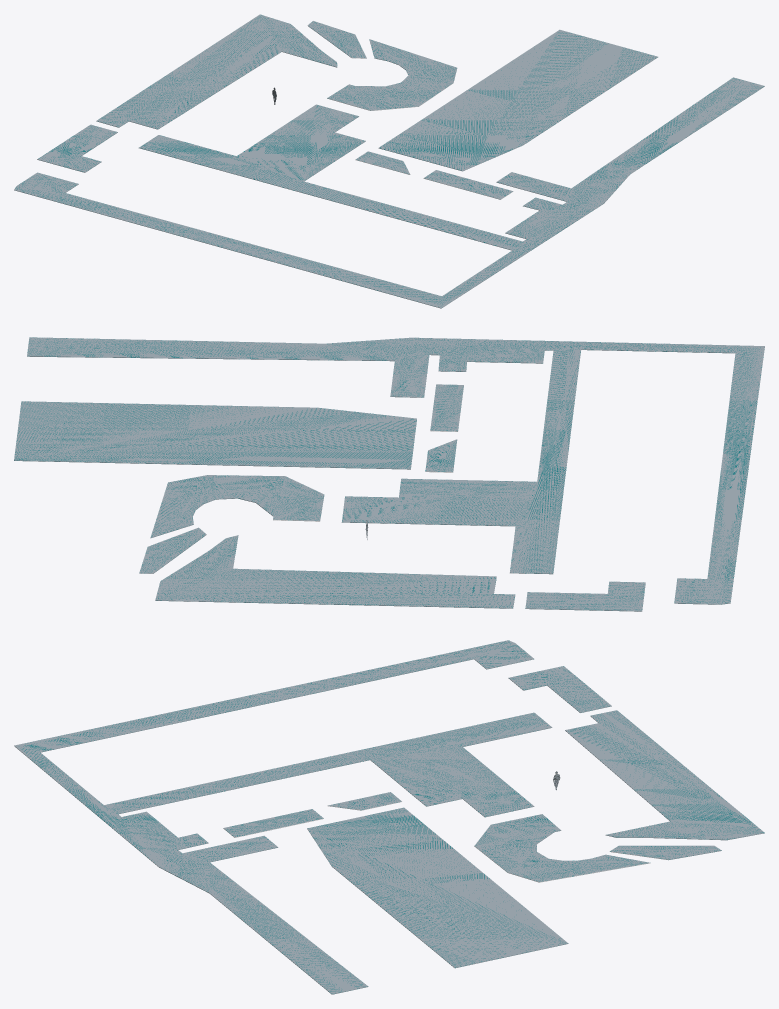
File: Grass(base).obj
3 renders of one model, top to bottom at view 1: azimuth 30°, elevation 25°; view 2: azimuth 150°, elevation 25°; view 3: azimuth 270°, elevation 25°, orthographic. The views are drawn at different scales.
Parts seen in each view (by area): view 1: Mesh5 Component_7_1 Group1 Model, Mesh4 Component_7_1 Group1 Model, Mesh2 Component_7_1 Group1 Model, Mesh3 Component_7_1 Group1 Model, Mesh8 Component_7_1 Group1 Model, Mesh7 Component_7_1 Group1 Model, Mesh6 Component_7_1 Group1 Model, Mesh1 Component_7_1 Group1 Model; view 2: Mesh5 Component_7_1 Group1 Model, Mesh4 Component_7_1 Group1 Model, Mesh2 Component_7_1 Group1 Model, Mesh3 Component_7_1 Group1 Model, Mesh8 Component_7_1 Group1 Model, Mesh7 Component_7_1 Group1 Model, Mesh6 Component_7_1 Group1 Model, Mesh1 Component_7_1 Group1 Model; view 3: Mesh5 Component_7_1 Group1 Model, Mesh4 Component_7_1 Group1 Model, Mesh2 Component_7_1 Group1 Model, Mesh3 Component_7_1 Group1 Model, Mesh8 Component_7_1 Group1 Model, Mesh6 Component_7_1 Group1 Model, Mesh7 Component_7_1 Group1 Model, Mesh1 Component_7_1 Group1 Model.
Part boxes in pixels (bbox=[...]): Mesh5 Component_7_1 Group1 Model: bbox=[14, 77, 764, 308]; Mesh4 Component_7_1 Group1 Model: bbox=[378, 29, 657, 171]; Mesh2 Component_7_1 Group1 Model: bbox=[96, 14, 337, 129]; Mesh3 Component_7_1 Group1 Model: bbox=[327, 39, 457, 110]; Mesh8 Component_7_1 Group1 Model: bbox=[37, 124, 117, 172]; Mesh7 Component_7_1 Group1 Model: bbox=[423, 170, 513, 199]; Mesh6 Component_7_1 Group1 Model: bbox=[307, 21, 366, 58]; Mesh1 Component_7_1 Group1 Model: bbox=[355, 151, 410, 174]; Mesh5 Component_7_1 Group1 Model: bbox=[27, 337, 764, 604]; Mesh4 Component_7_1 Group1 Model: bbox=[14, 401, 416, 469]; Mesh2 Component_7_1 Group1 Model: bbox=[155, 535, 515, 608]; Mesh3 Component_7_1 Group1 Model: bbox=[150, 475, 324, 538]; Mesh8 Component_7_1 Group1 Model: bbox=[525, 581, 645, 611]; Mesh7 Component_7_1 Group1 Model: bbox=[430, 384, 463, 431]; Mesh6 Component_7_1 Group1 Model: bbox=[139, 527, 206, 573]; Mesh1 Component_7_1 Group1 Model: bbox=[425, 439, 457, 472]; Mesh5 Component_7_1 Group1 Model: bbox=[14, 640, 552, 994]; Mesh4 Component_7_1 Group1 Model: bbox=[307, 807, 568, 968]; Mesh2 Component_7_1 Group1 Model: bbox=[565, 710, 764, 840]; Mesh3 Component_7_1 Group1 Model: bbox=[474, 814, 650, 882]; Mesh8 Component_7_1 Group1 Model: bbox=[508, 666, 611, 712]; Mesh6 Component_7_1 Group1 Model: bbox=[609, 845, 721, 860]; Mesh7 Component_7_1 Group1 Model: bbox=[223, 809, 323, 837]; Mesh1 Component_7_1 Group1 Model: bbox=[327, 792, 401, 810].
Bounding box in the file's own units: 168933 × 4180 × 151383.
